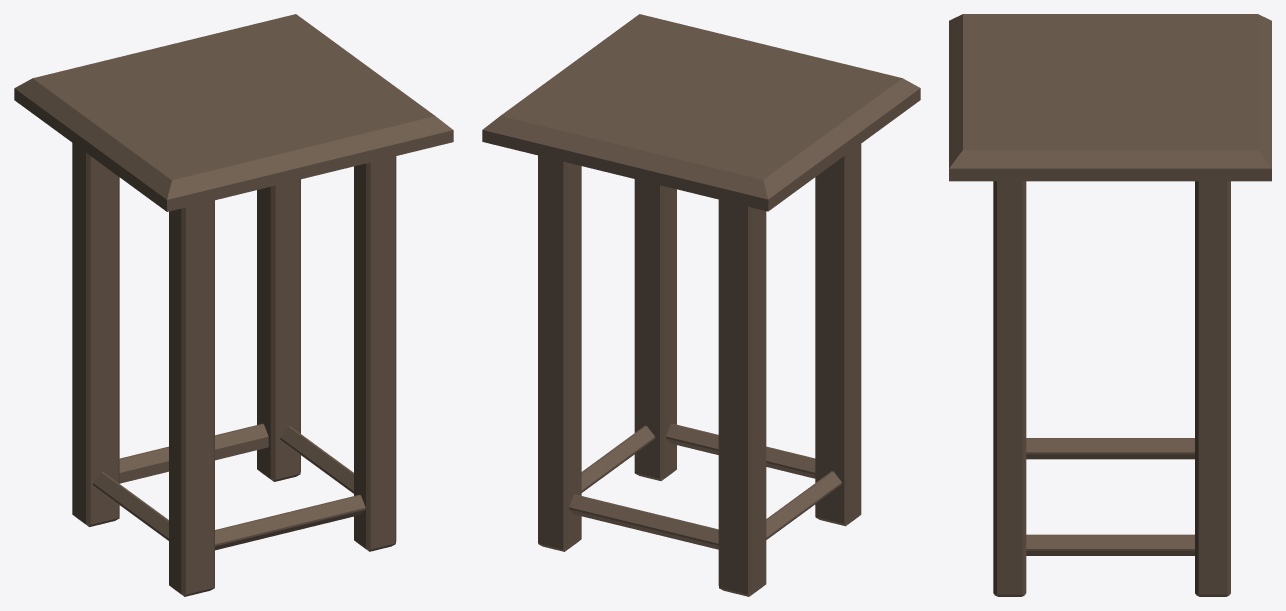
The model's file is table_long_fbx.fbx.
3 renders of one model, left to right at view 1: azimuth 30°, elevation 25°; view 2: azimuth 150°, elevation 25°; view 3: azimuth 270°, elevation 25°, orthographic. The views are drawn at different scales.
Visible parts, largest first — view 1: Standing; view 2: Standing; view 3: Standing.
Boxes of the visible parts, x1,y1,x2,y2 form: Standing: (14,14,453,596); Standing: (482,14,920,596); Standing: (949,14,1271,596).
Bounding box in the file's own units: 4.2 × 6.11 × 3.88.
